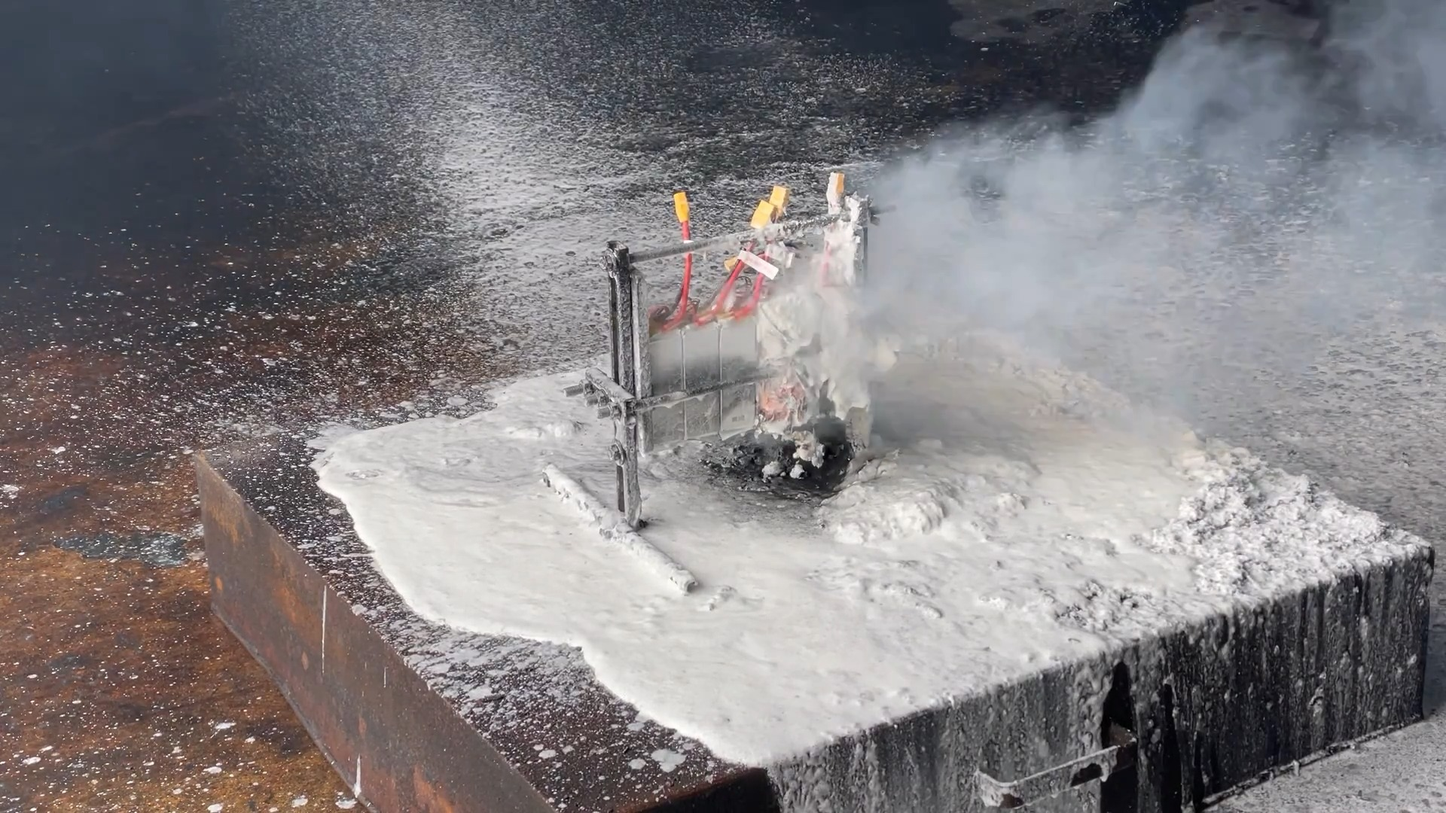smoke: (806, 4, 1444, 443)
